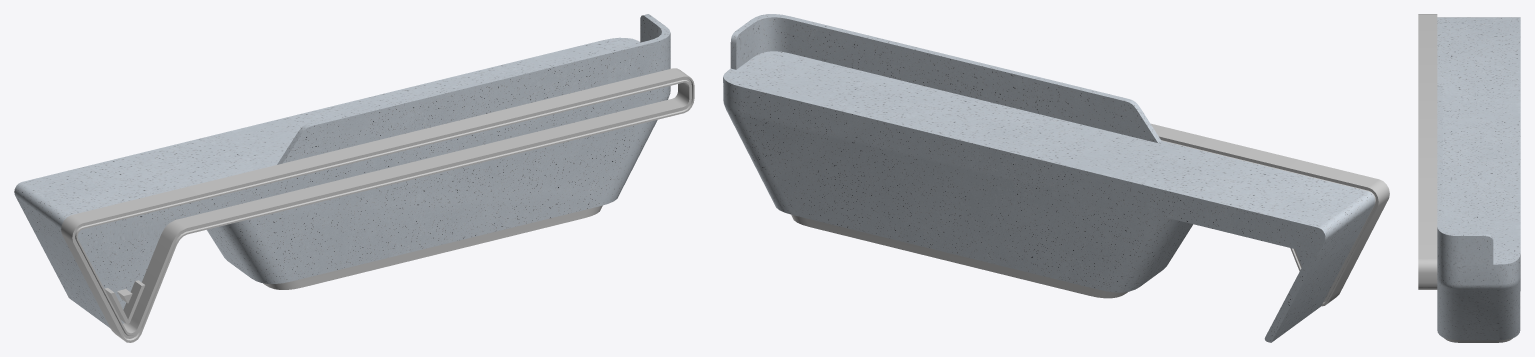
File: D_DeskInfo_001_a.fbx
3 views of the same model, side by side, from view 1: azimuth 30°, elevation 25°; view 2: azimuth 150°, elevation 25°; view 3: azimuth 270°, elevation 25° (orthographic). The views are drawn at different scales.
Visible parts, largest first — view 1: D_DeskInfo_001_a; view 2: D_DeskInfo_001_a; view 3: D_DeskInfo_001_a.
Part boxes in pixels (<box>): D_DeskInfo_001_a: <box>14,14,694,342</box>; D_DeskInfo_001_a: <box>723,14,1389,342</box>; D_DeskInfo_001_a: <box>1418,14,1520,342</box>.
Size of the model in its own units: 6.13 by 1.53 by 1.05.
